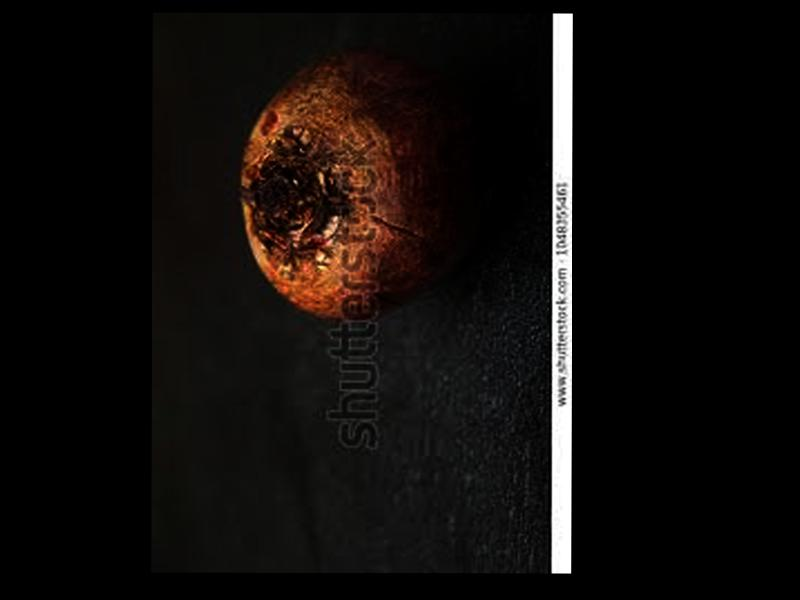Beet: (241, 43, 490, 318)
